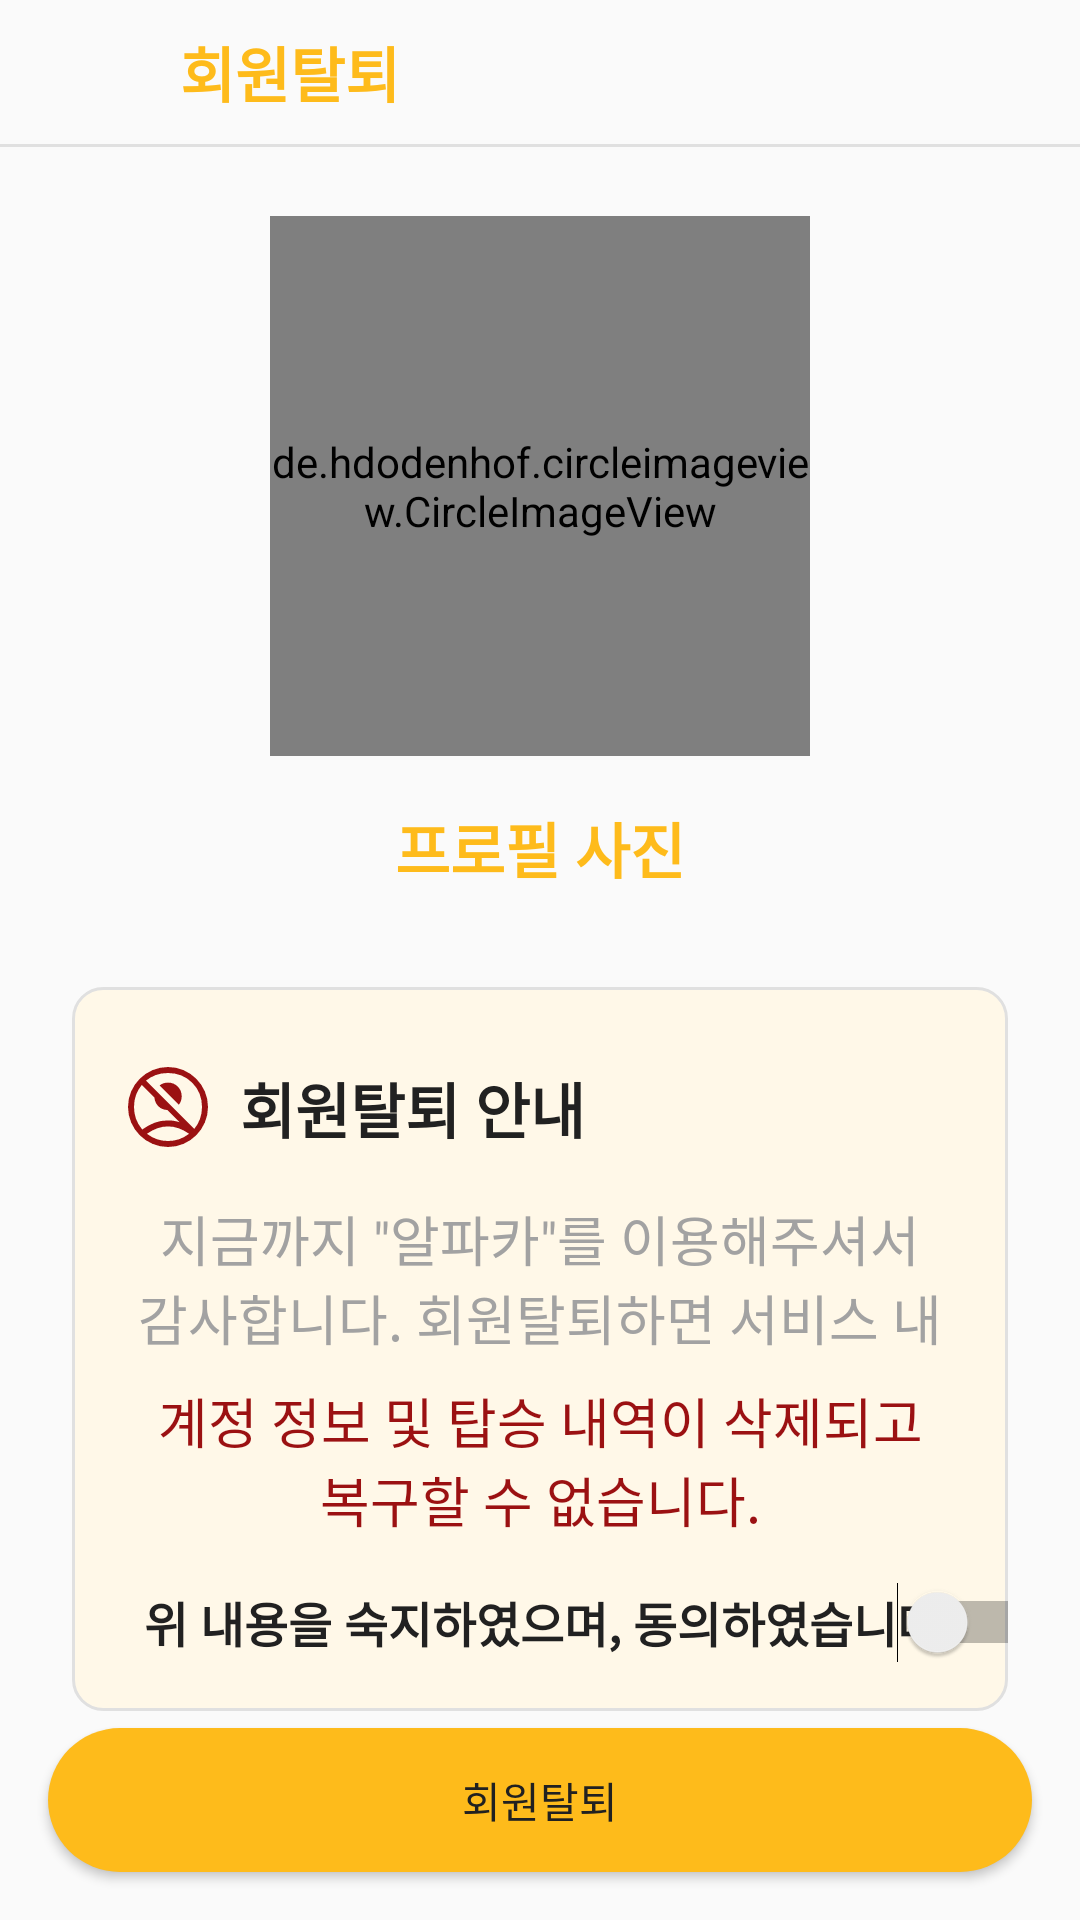

Icons on this 1080*1920 Android screen, each with the point to tap as [x,y]:
withdrawal: [168,1107]
